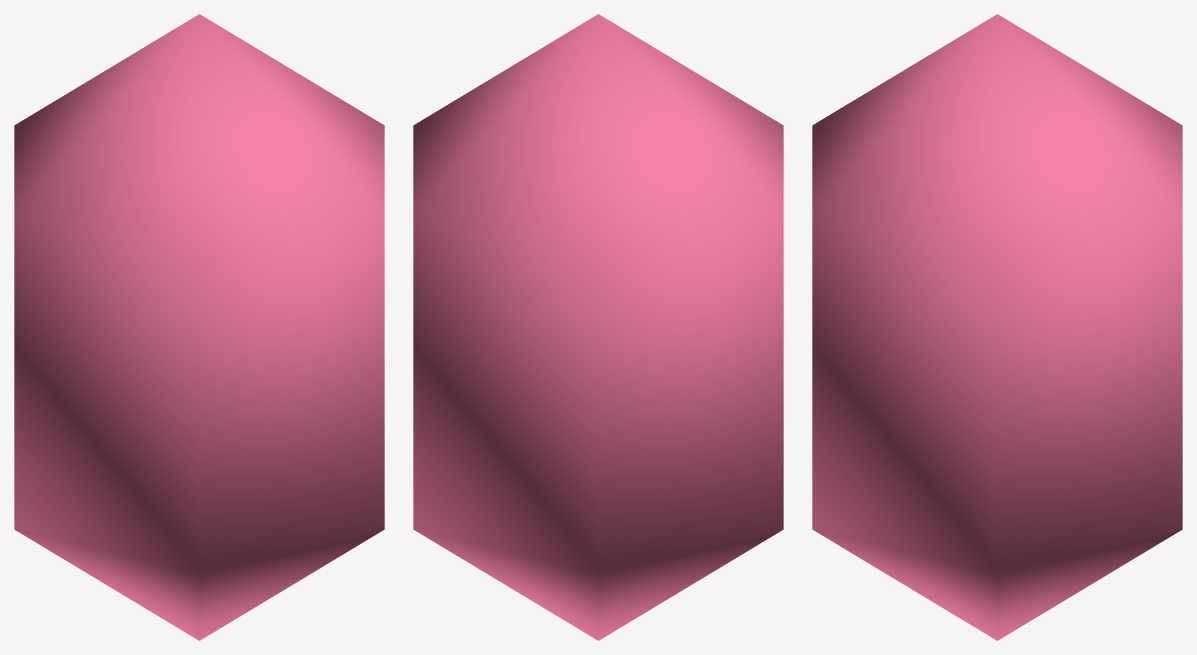
Rendered from gem.glb.
3 renders of one model, left to right at view 1: azimuth 30°, elevation 25°; view 2: azimuth 150°, elevation 25°; view 3: azimuth 270°, elevation 25°, orthographic.
Parts seen in each view (by area): view 1: sphere; view 2: sphere; view 3: sphere.
Boxes of the visible parts, x1,y1,x2,y2 form: sphere: (14, 14, 384, 640); sphere: (413, 14, 783, 640); sphere: (812, 14, 1182, 640).
Bounding box in the file's own units: 0.433 × 0.7 × 0.375.
